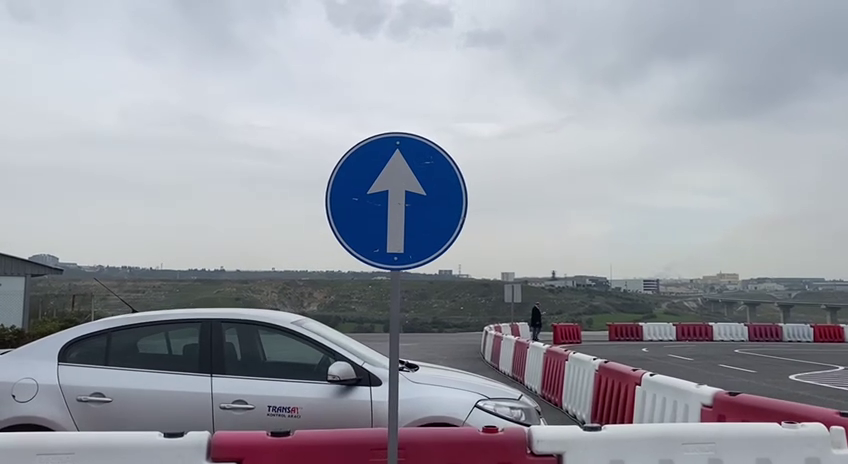forward: (321, 127, 471, 274)
